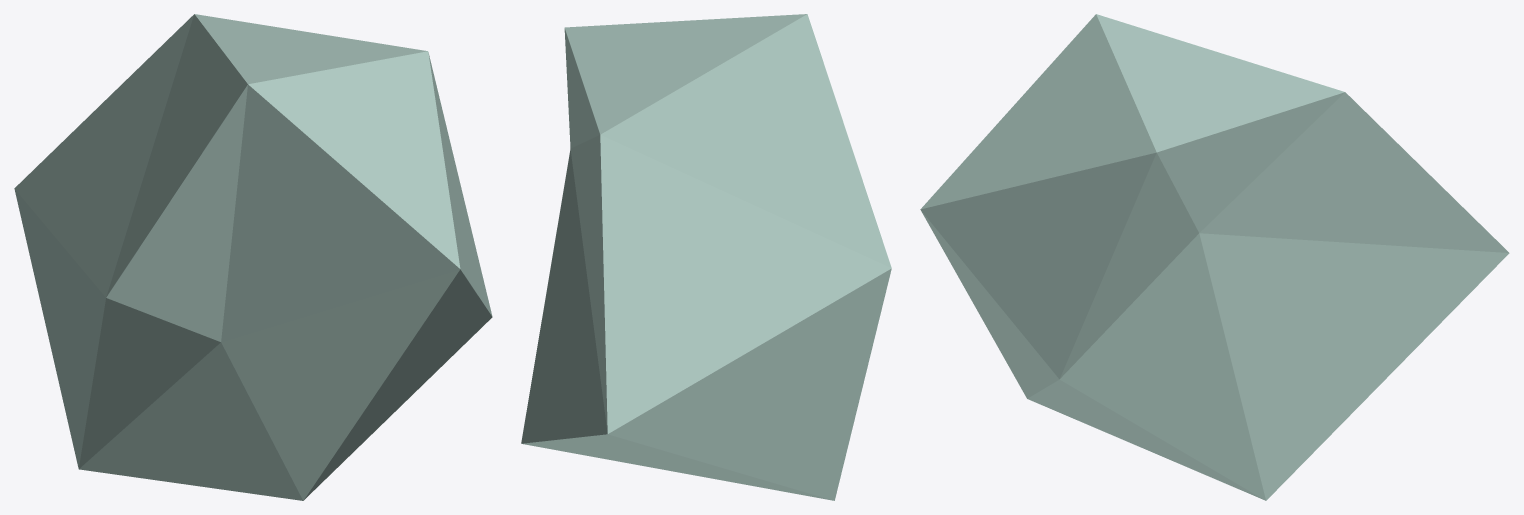
The model's file is kamen5.fbx.
3 renders of one model, left to right at view 1: azimuth 30°, elevation 25°; view 2: azimuth 150°, elevation 25°; view 3: azimuth 270°, elevation 25°, orthographic. The views are drawn at different scales.
Visible parts, largest first — view 1: kamen5; view 2: kamen5; view 3: kamen5.
Part boxes in pixels (x1,y1,x2,y2): kamen5: (14,14,492,500); kamen5: (521,14,891,500); kamen5: (920,14,1509,500).
Size of the model in its own units: 177 by 207 by 280.
